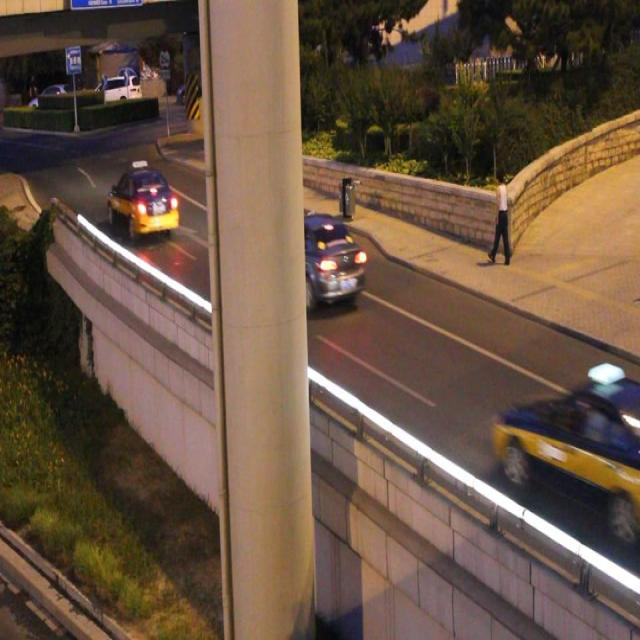car: (498, 377, 640, 519), (268, 214, 362, 305), (108, 168, 178, 234)
